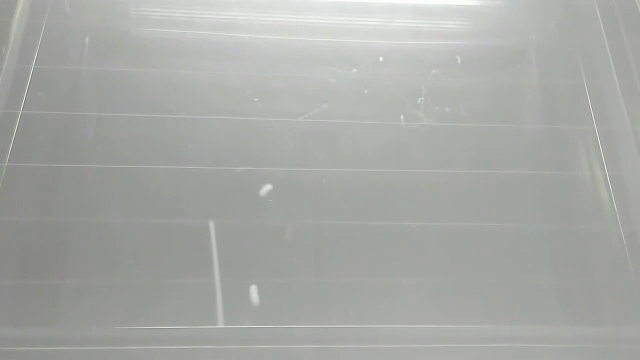alpha: (205, 215, 230, 330), (243, 280, 264, 311), (255, 179, 279, 203)
